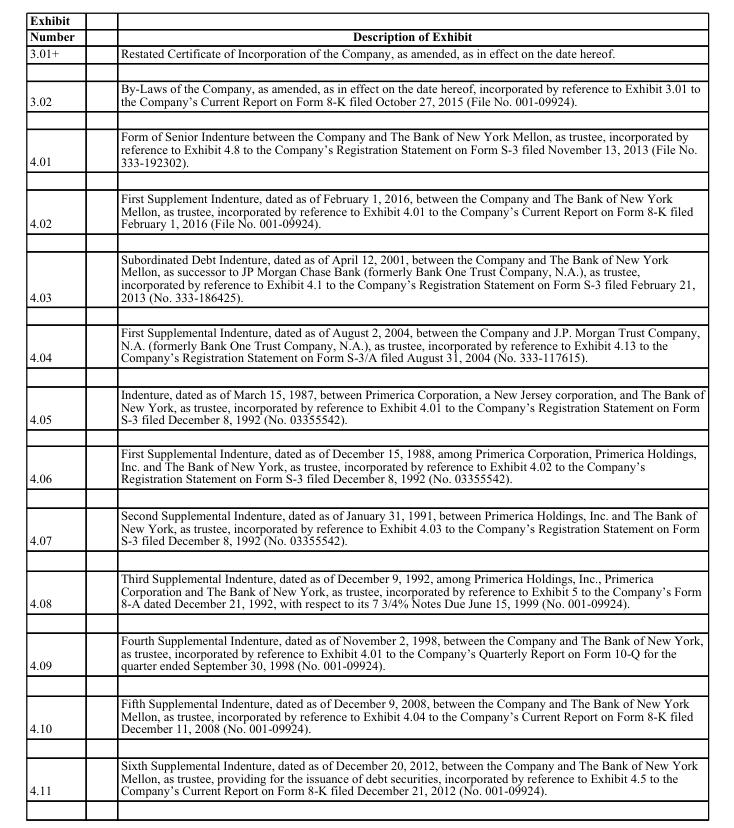table: (28, 29, 703, 797)
table column: (96, 29, 703, 797), (28, 29, 96, 797)
table column header: (28, 29, 703, 44)
table row: (28, 240, 703, 314), (28, 496, 703, 559), (28, 621, 703, 684), (28, 559, 703, 621), (28, 684, 703, 746), (28, 118, 703, 179), (28, 179, 703, 240), (28, 314, 703, 375), (28, 435, 703, 496), (28, 375, 703, 435), (28, 746, 703, 797), (28, 70, 703, 118), (28, 44, 703, 70), (28, 29, 703, 44)
